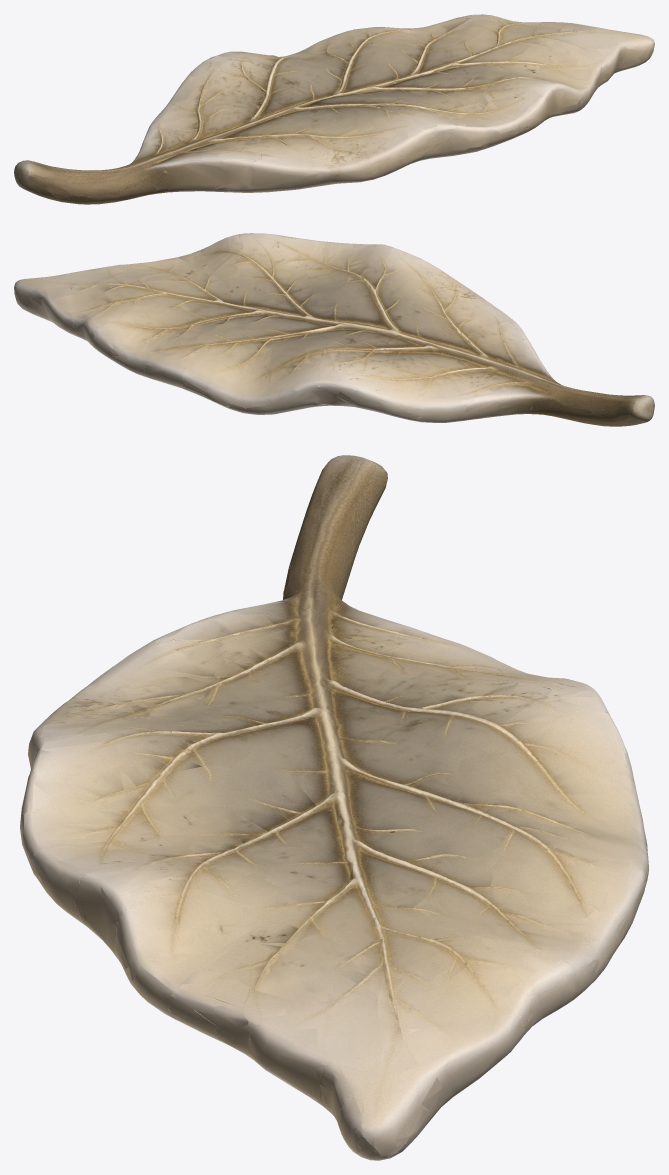
Rendered from dawn-leaf-slim.glb.
3 renders of one model, top to bottom at view 1: azimuth 30°, elevation 25°; view 2: azimuth 150°, elevation 25°; view 3: azimuth 270°, elevation 25°, orthographic. The views are drawn at different scales.
Visible parts, largest first — view 1: Mesh_0; view 2: Mesh_0; view 3: Mesh_0.
Part boxes in pixels (x1,y1,x2,y2): Mesh_0: (14, 14, 654, 204); Mesh_0: (14, 233, 654, 426); Mesh_0: (20, 455, 648, 1160).
Bounding box in the file's own units: 1.9 × 0.195 × 0.8212.
1 material, 1 textured.
